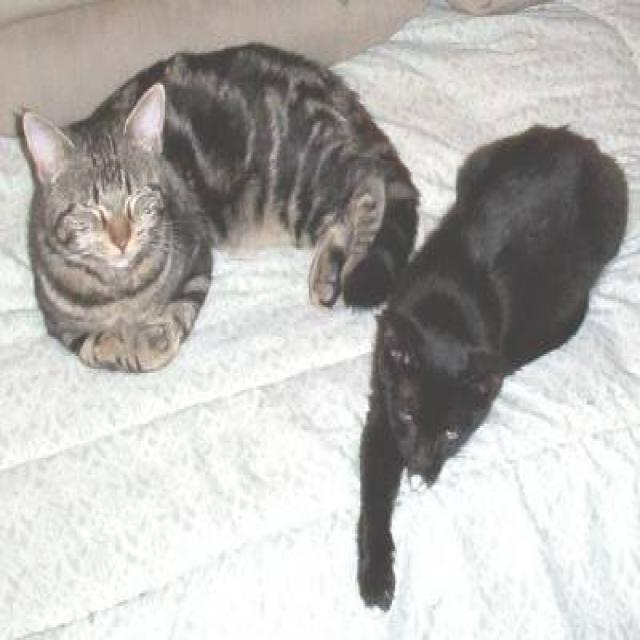cat: (16, 38, 421, 373), (354, 121, 628, 610)
